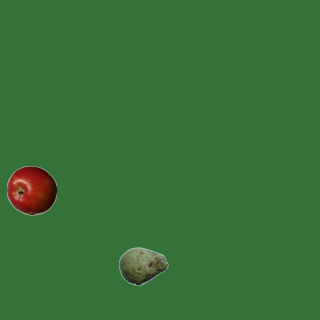Apple Braeburn: (6, 165, 56, 215)
Pear Stone: (118, 241, 168, 291)
